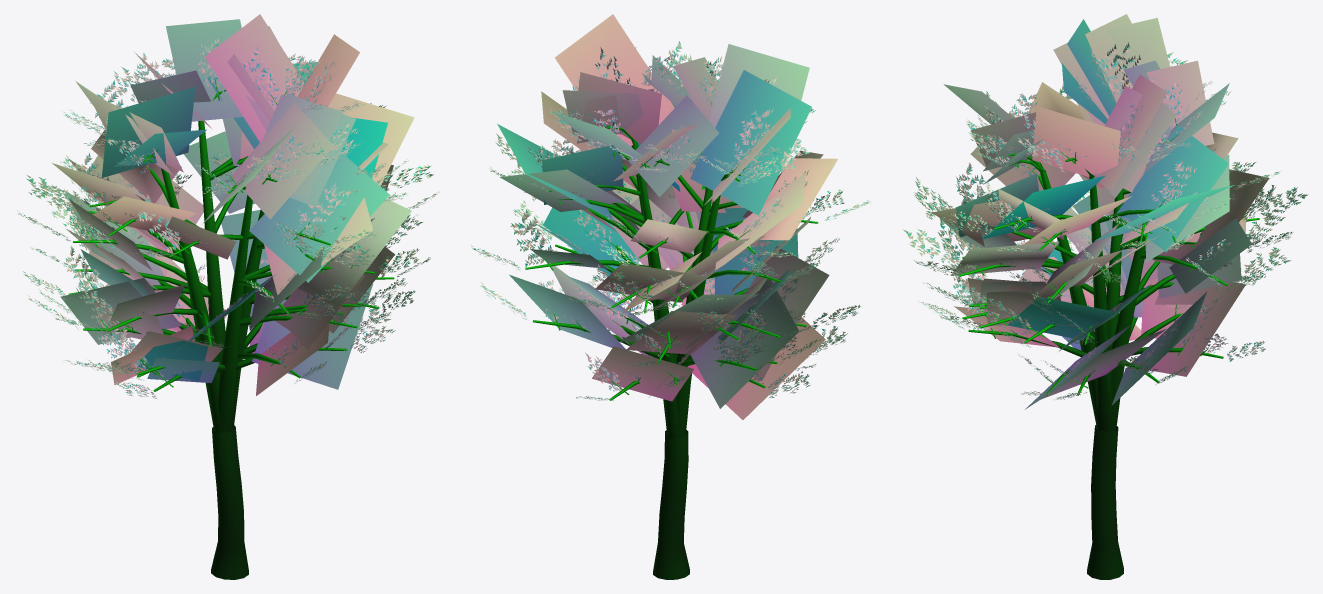
The model's file is shade_3.glb.
The picture shows the model from 3 angles, left to right: view 1: azimuth 30°, elevation 25°; view 2: azimuth 150°, elevation 25°; view 3: azimuth 270°, elevation 25°; orthographic projection. The views are drawn at different scales.
Visible parts, largest first — view 1: mid, near; view 2: mid, near; view 3: mid, near.
Part boxes in pixels (box(x1,y1,x2,y2)): mid: box(52, 14, 414, 432); near: box(18, 38, 438, 579); mid: box(497, 14, 837, 438); near: box(471, 41, 870, 579); mid: box(932, 14, 1269, 431); near: box(902, 42, 1308, 579).
Bounding box in the file's own units: 8.84 × 12.36 × 8.9.
